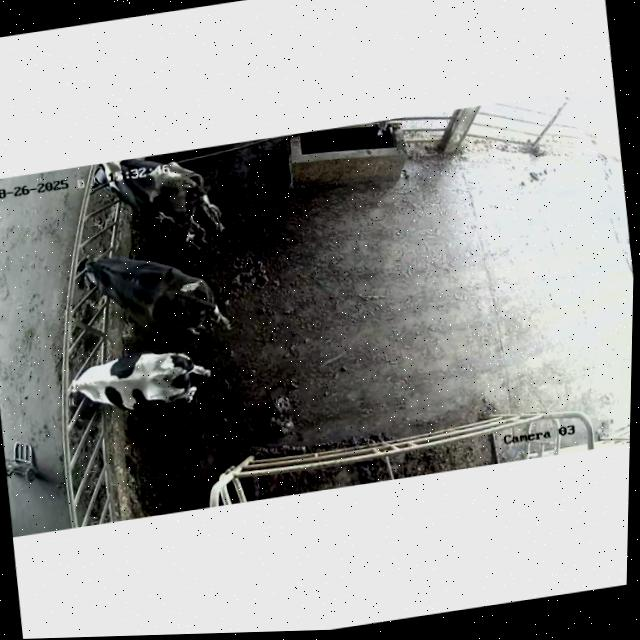eat: (34, 350, 132, 424), (37, 234, 137, 301), (50, 154, 152, 209)
